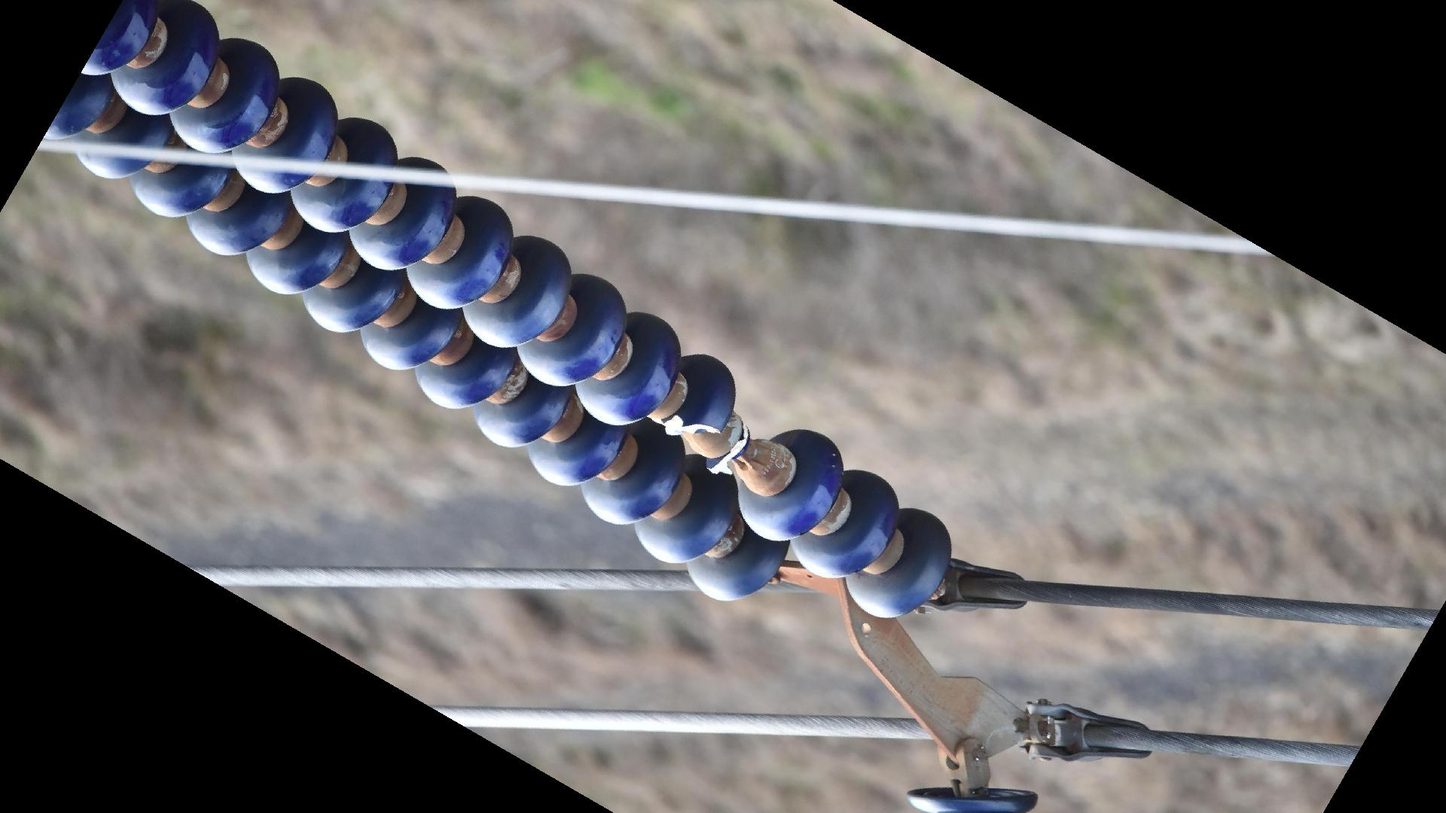insulator: (73, 1, 965, 626), (39, 78, 790, 606)
insulator_breakage: (698, 419, 757, 482), (641, 406, 728, 443)
